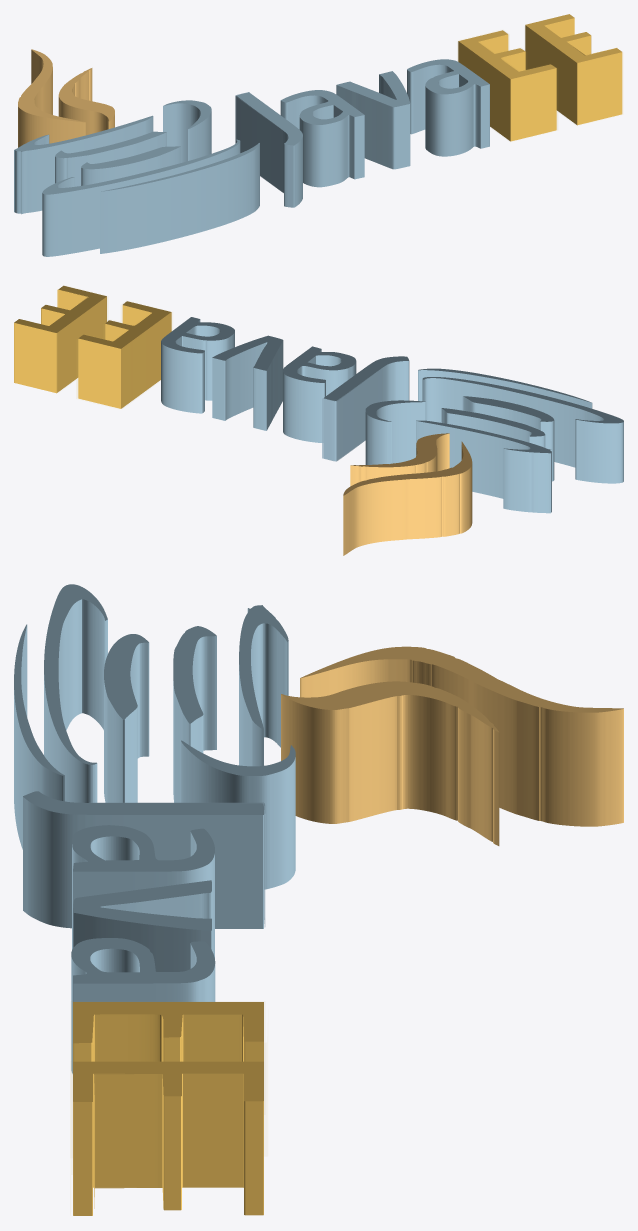
The model's file is jee-2.glb.
The picture shows the model from 3 angles, top to bottom: view 1: azimuth 30°, elevation 25°; view 2: azimuth 150°, elevation 25°; view 3: azimuth 270°, elevation 25°; orthographic projection. The views are drawn at different scales.
Parts seen in each view (by area): view 1: Node9, Node12, Node2, Node11, Node1, Node5, Node4, Node3, Node8, Node13, Node19, Node10 (+3 smaller); view 2: Node13, Node5, Node11, Node8, Node12, Node3, Node2, Node4, Node1, Node10, Node19, Node14 (+4 smaller); view 3: Node14, Node12, Node13, Node4, Node11, Node5, Node3, Node1, Node10, Node2, Node20, Node6 (+3 smaller).
Boxes of the visible parts, x1=… form: Node9: x1=100, y1=143, x2=259, y2=253; Node12: x1=525, y1=14, x2=622, y2=125; Node2: x1=407, y1=59, x2=489, y2=156; Node11: x1=458, y1=30, x2=556, y2=141; Node1: x1=280, y1=90, x2=364, y2=187; Node5: x1=42, y1=139, x2=240, y2=256; Node4: x1=236, y1=92, x2=302, y2=207; Node3: x1=336, y1=71, x2=410, y2=169; Node8: x1=14, y1=115, x2=153, y2=214; Node13: x1=18, y1=49, x2=85, y2=147; Node19: x1=235, y1=92, x2=282, y2=192; Node10: x1=163, y1=100, x2=211, y2=162; Node13: x1=343, y1=441, x2=472, y2=555; Node5: x1=422, y1=377, x2=623, y2=483; Node11: x1=78, y1=301, x2=171, y2=408; Node8: x1=416, y1=420, x2=551, y2=513; Node12: x1=14, y1=285, x2=106, y2=393; Node3: x1=212, y1=335, x2=283, y2=430; Node2: x1=161, y1=317, x2=234, y2=413; Node4: x1=323, y1=356, x2=409, y2=460; Node1: x1=283, y1=346, x2=356, y2=442; Node10: x1=365, y1=400, x2=425, y2=464; Node19: x1=322, y1=368, x2=382, y2=461; Node14: x1=350, y1=433, x2=449, y2=486; Node14: x1=281, y1=681, x2=499, y2=845; Node12: x1=73, y1=1061, x2=263, y2=1215; Node13: x1=300, y1=646, x2=623, y2=826; Node4: x1=23, y1=791, x2=263, y2=928; Node11: x1=73, y1=1002, x2=263, y2=1061; Node5: x1=44, y1=584, x2=107, y2=802; Node3: x1=73, y1=880, x2=211, y2=971; Node1: x1=72, y1=825, x2=214, y2=957; Node10: x1=180, y1=740, x2=295, y2=889; Node2: x1=71, y1=938, x2=215, y2=1073; Node20: x1=94, y1=1074, x2=157, y2=1208; Node6: x1=104, y1=634, x2=149, y2=802.
Size of the model in its own units: 97.59 by 10 by 48.52.
